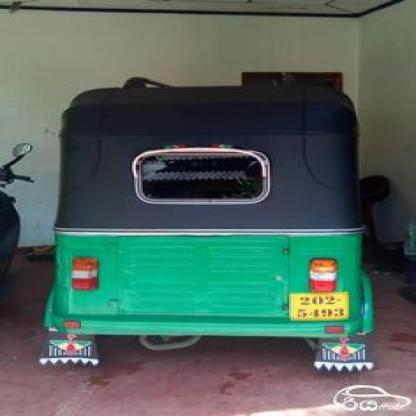number plate: (288, 292, 347, 319)
three wheeler back: (38, 80, 380, 371)
